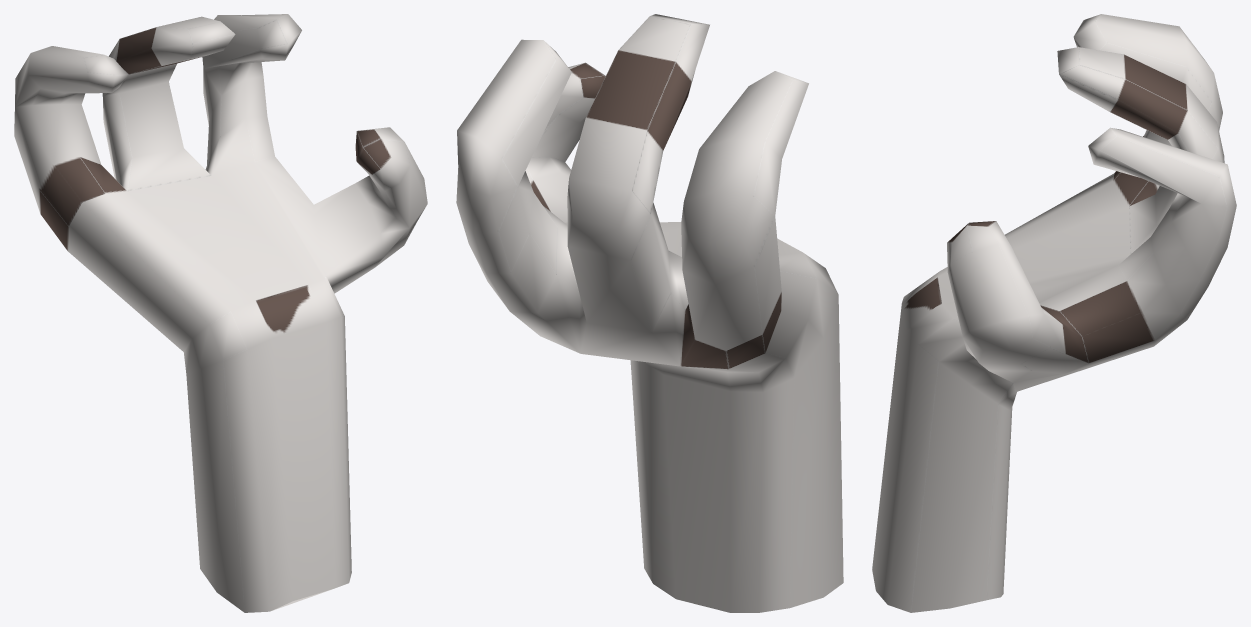
Rendered from giant_mummy_hand.fbx.
3 views of the same model, side by side, from view 1: azimuth 30°, elevation 25°; view 2: azimuth 150°, elevation 25°; view 3: azimuth 270°, elevation 25° (orthographic). The views are drawn at different scales.
Visible parts, largest first — view 1: pCube2; view 2: pCube2; view 3: pCube2.
Boxes of the visible parts, bbox=[...] form: pCube2: bbox=[14, 14, 427, 612]; pCube2: bbox=[456, 14, 843, 612]; pCube2: bbox=[872, 14, 1236, 612].
Size of the model in its own units: 3.42 by 5.25 by 3.28.
Materials: 1 (1 with a texture image).
